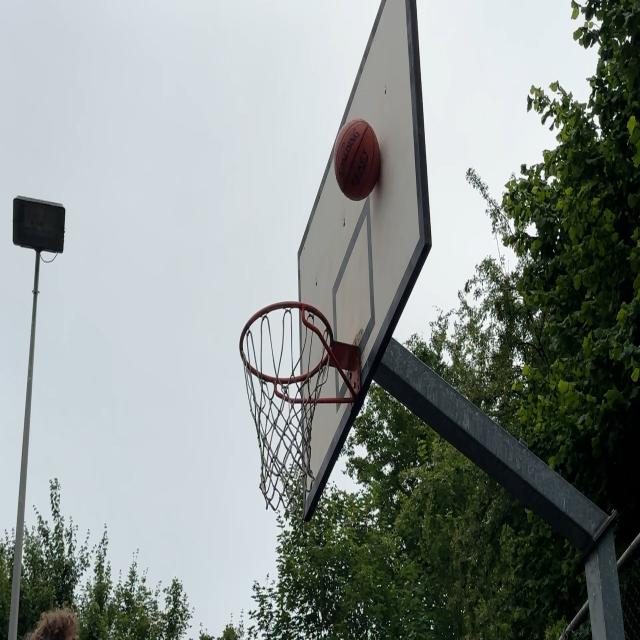rebound_hit: (334, 118, 384, 202)
